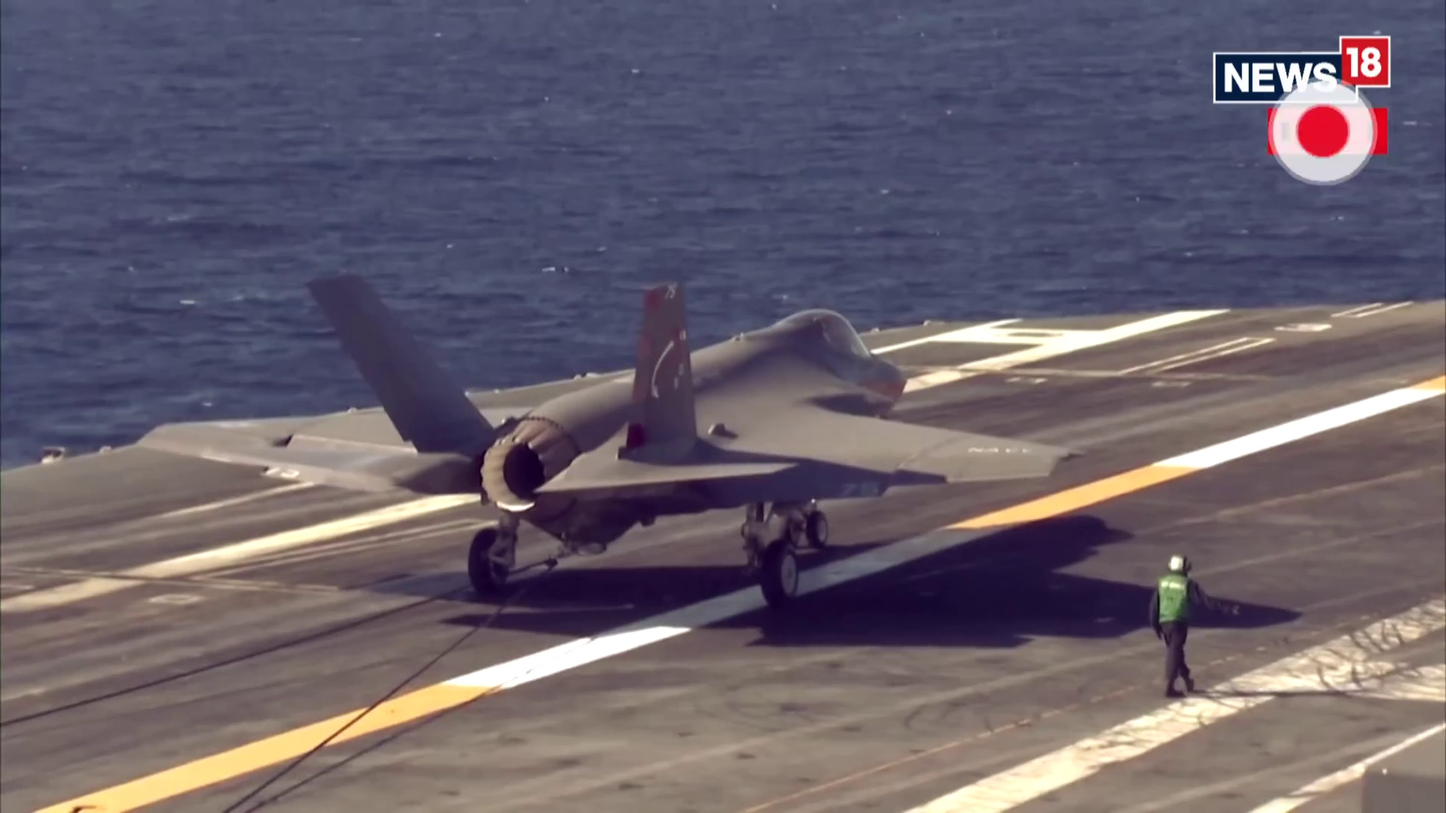F35: (148, 269, 1084, 589)
